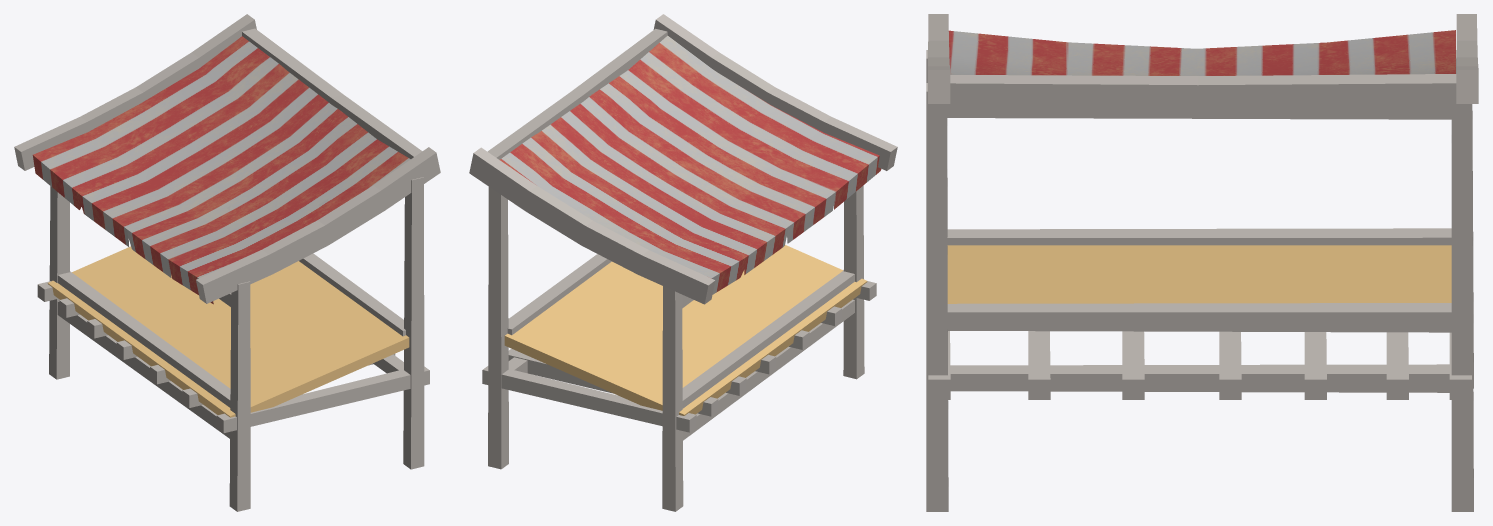
File: Store_E.fbx
3 views of the same model, side by side, from view 1: azimuth 30°, elevation 25°; view 2: azimuth 150°, elevation 25°; view 3: azimuth 270°, elevation 25° (orthographic). The views are drawn at different scales.
Visible parts, largest first — view 1: Store_E; view 2: Store_E; view 3: Store_E.
Part boxes in pixels (x1=…): Store_E: x1=14, y1=14, x2=440, y2=511; Store_E: x1=469, y1=14, x2=897, y2=511; Store_E: x1=926, y1=14, x2=1478, y2=511.
Size of the model in its own units: 379 by 473 by 525.
